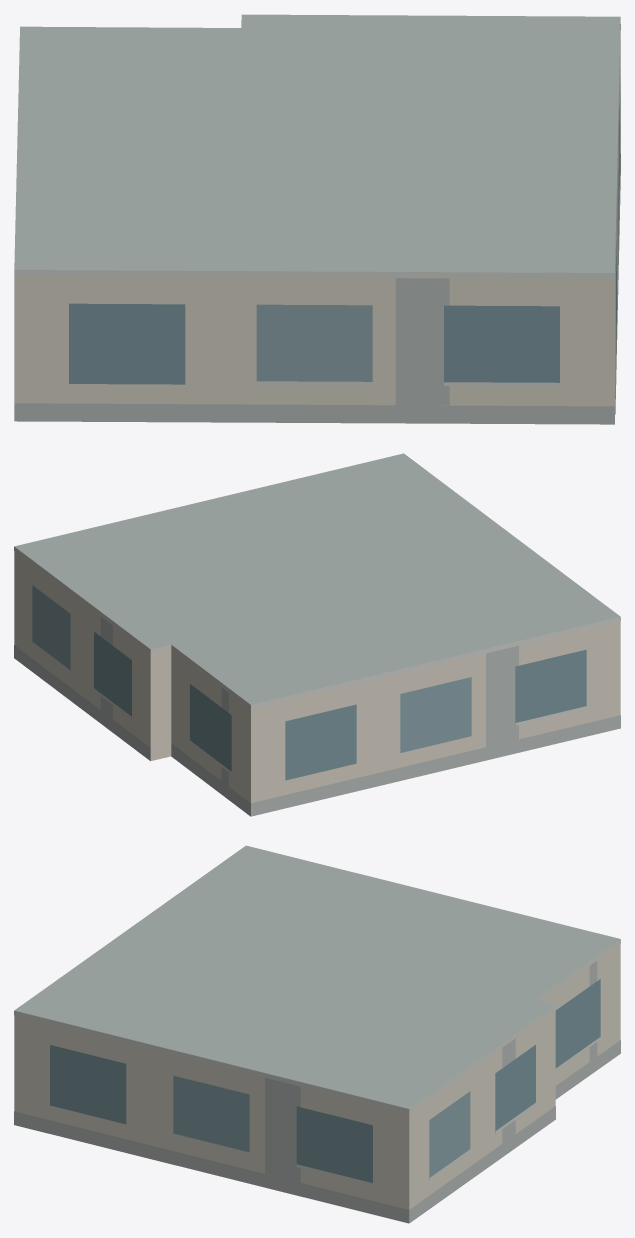
The model's file is residential-acc5e645-7bf0-4915-80f6-b0da80e66e67.glb.
3 renders of one model, top to bottom at view 1: azimuth 30°, elevation 25°; view 2: azimuth 150°, elevation 25°; view 3: azimuth 270°, elevation 25°, orthographic. The views are drawn at different scales.
Parts seen in each view (by area): view 1: residential-acc5e645-7bf0-4915-80f6-b0da80e66e67.tmp; view 2: residential-acc5e645-7bf0-4915-80f6-b0da80e66e67.tmp; view 3: residential-acc5e645-7bf0-4915-80f6-b0da80e66e67.tmp.
Part boxes in pixels (x1,y1,x2,y2): residential-acc5e645-7bf0-4915-80f6-b0da80e66e67.tmp: [14, 14, 620, 424]; residential-acc5e645-7bf0-4915-80f6-b0da80e66e67.tmp: [14, 453, 620, 816]; residential-acc5e645-7bf0-4915-80f6-b0da80e66e67.tmp: [14, 845, 620, 1223].
Bounding box in the file's own units: 15.07 × 3.05 × 14.66.
